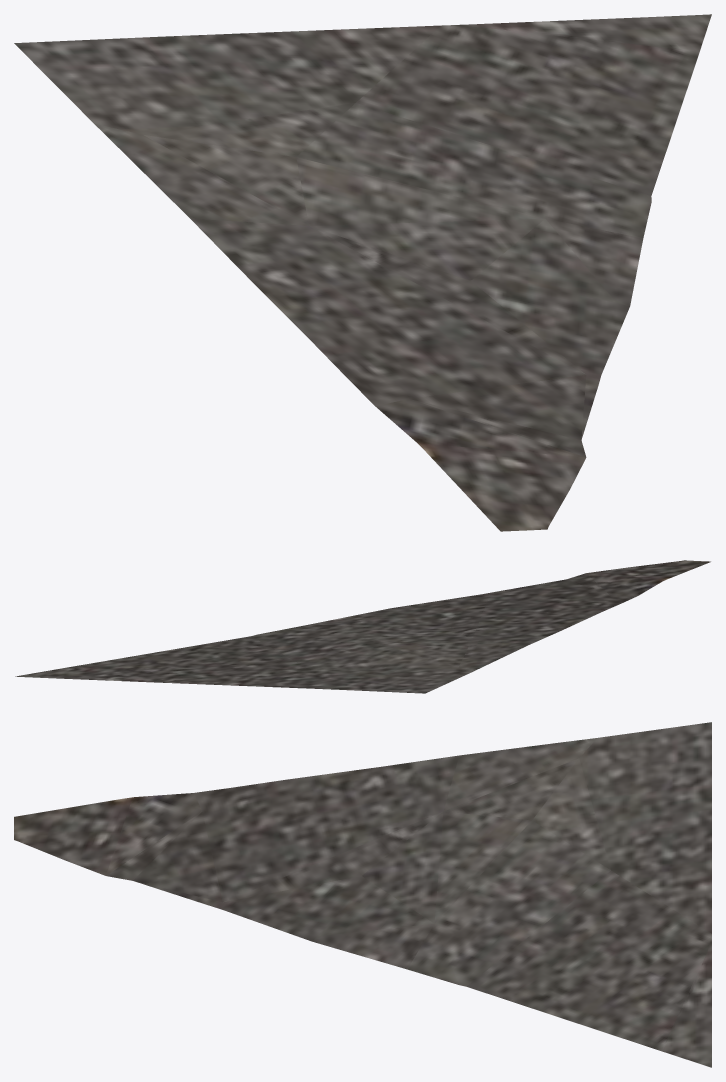
3 views of the same model, one above another, from view 1: azimuth 30°, elevation 25°; view 2: azimuth 150°, elevation 25°; view 3: azimuth 270°, elevation 25° (orthographic). The views are drawn at different scales.
Bounding box in the file's own units: 0.6934 × 0.1344 × 0.8374.
1 material, 1 textured.
